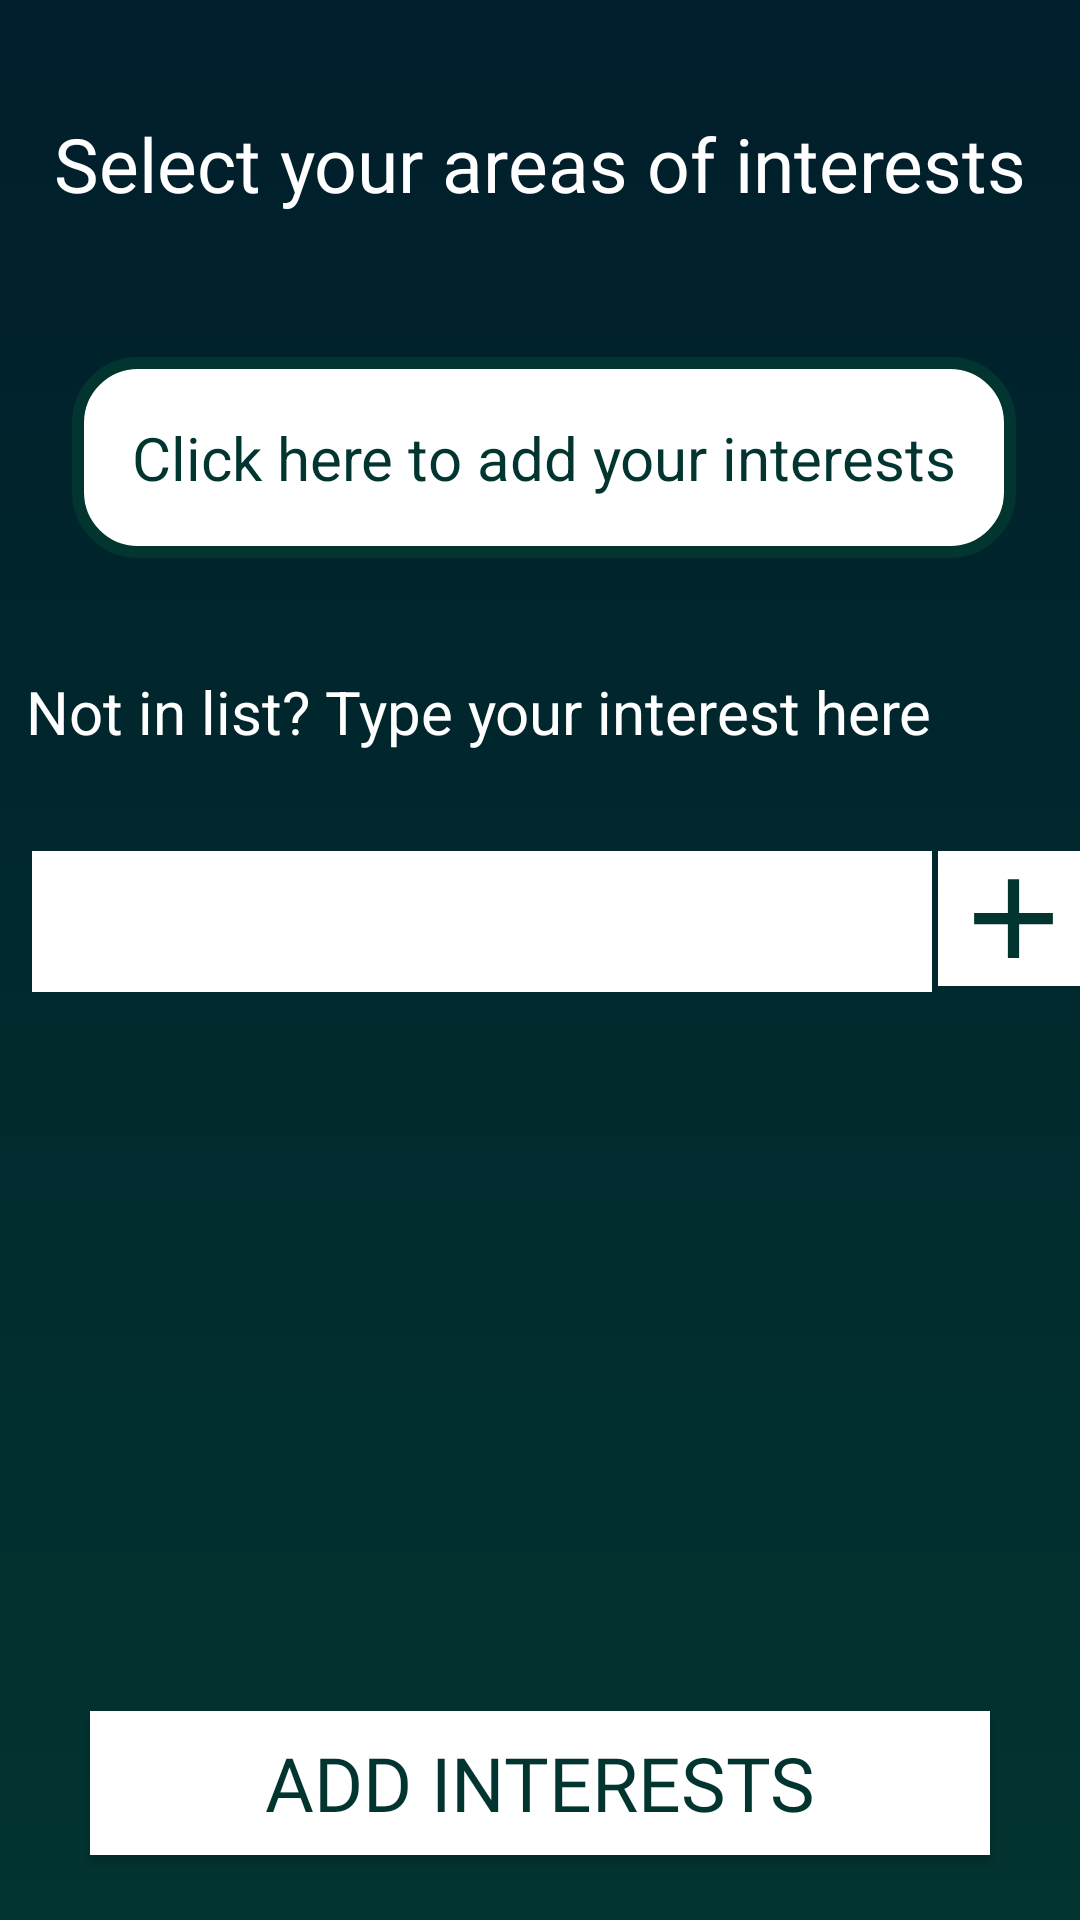

Screen size 1080*1920. Icon name, then its box in pixels as (x1, y1, x2, y2):
add: (938, 851, 1080, 986)
